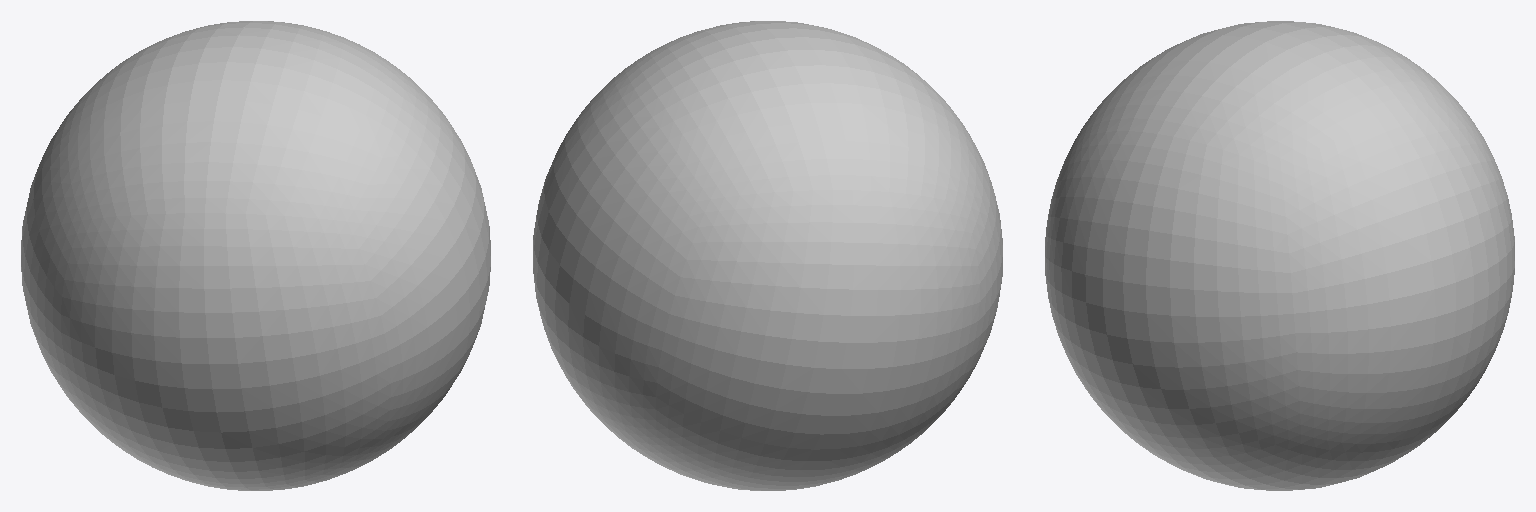
Rendered from pokus4.obj.
3 renders of one model, left to right at view 1: azimuth 30°, elevation 25°; view 2: azimuth 150°, elevation 25°; view 3: azimuth 270°, elevation 25°, orthographic.
Parts seen in each view (by area): view 1: Cube.003; view 2: Cube.003; view 3: Cube.003.
Part boxes in pixels (left/top/right/bottom): Cube.003: left=21, top=21, right=490, bottom=490; Cube.003: left=533, top=21, right=1002, bottom=490; Cube.003: left=1045, top=21, right=1514, bottom=490.
Size of the model in its own units: 0.7698 by 0.7684 by 0.7696.